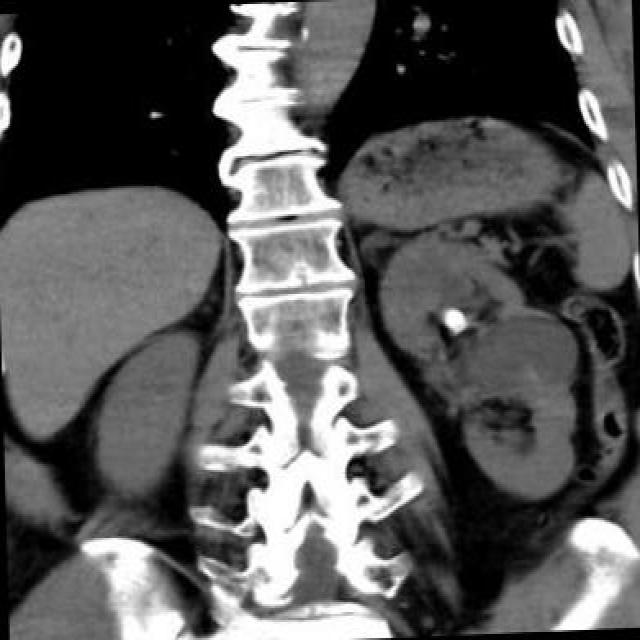Tas_Var: (441, 301, 472, 337)
